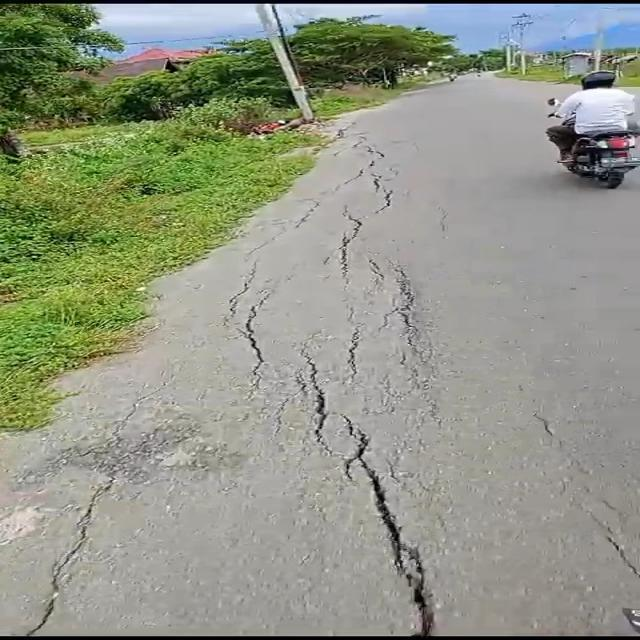Memanjang: (306, 353, 452, 633), (10, 448, 145, 640)
